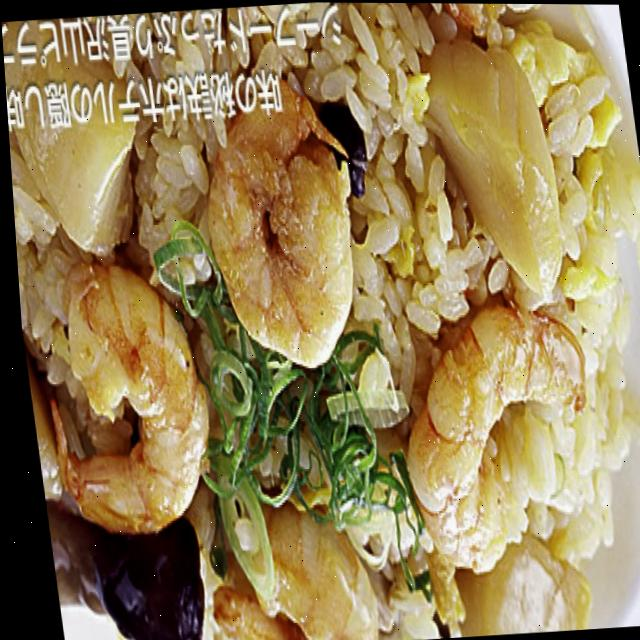米饭主食: (6, 110, 640, 640)
